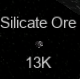Silicate: (1, 14, 80, 69)
